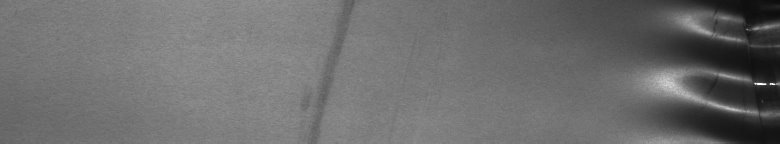ke: (640, 4, 724, 136)
